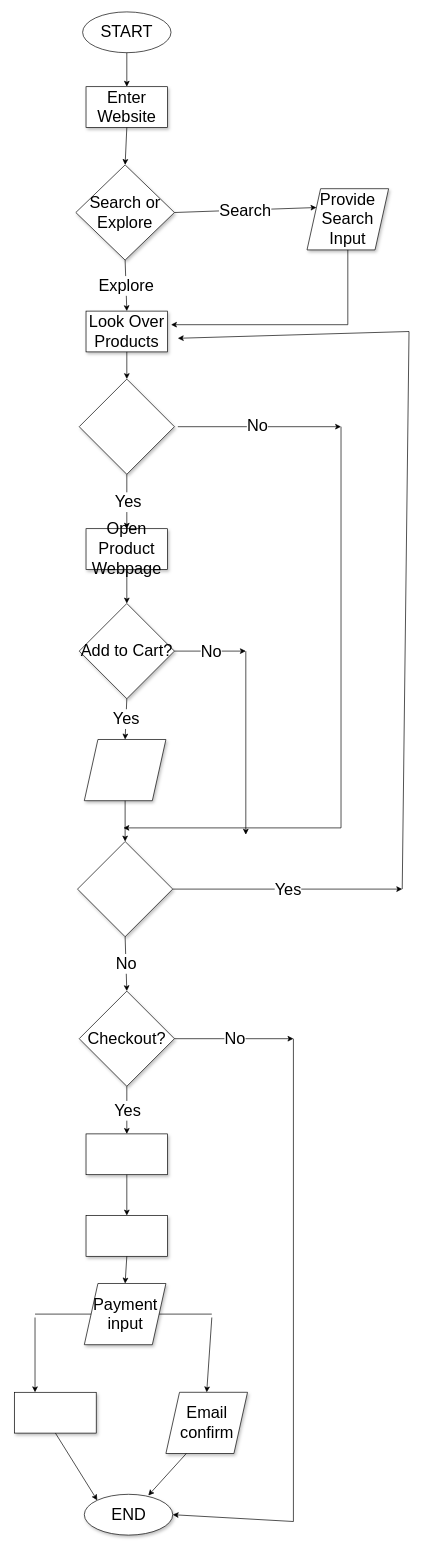
Some shapes in this 426 by 1552 pixel diagram are drawn without their labels. The centre of each missing label's shape, as x and y in pixels:
Add to cart confirm: the point at 125,770
Continue Shopping?: the point at 125,889
Order Confirm Screen: the point at 55,1413
Payment Screen: the point at 127,1236
View Cart Screen: the point at 127,1154
View Specific Product?: the point at 127,427
